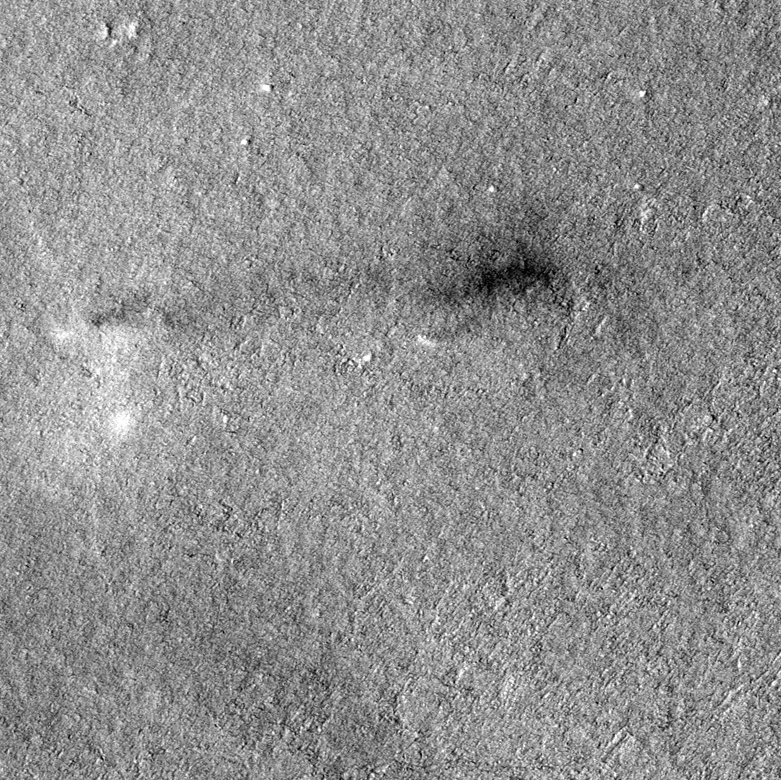dust_devil: (48, 234, 577, 376), (412, 248, 578, 353)
